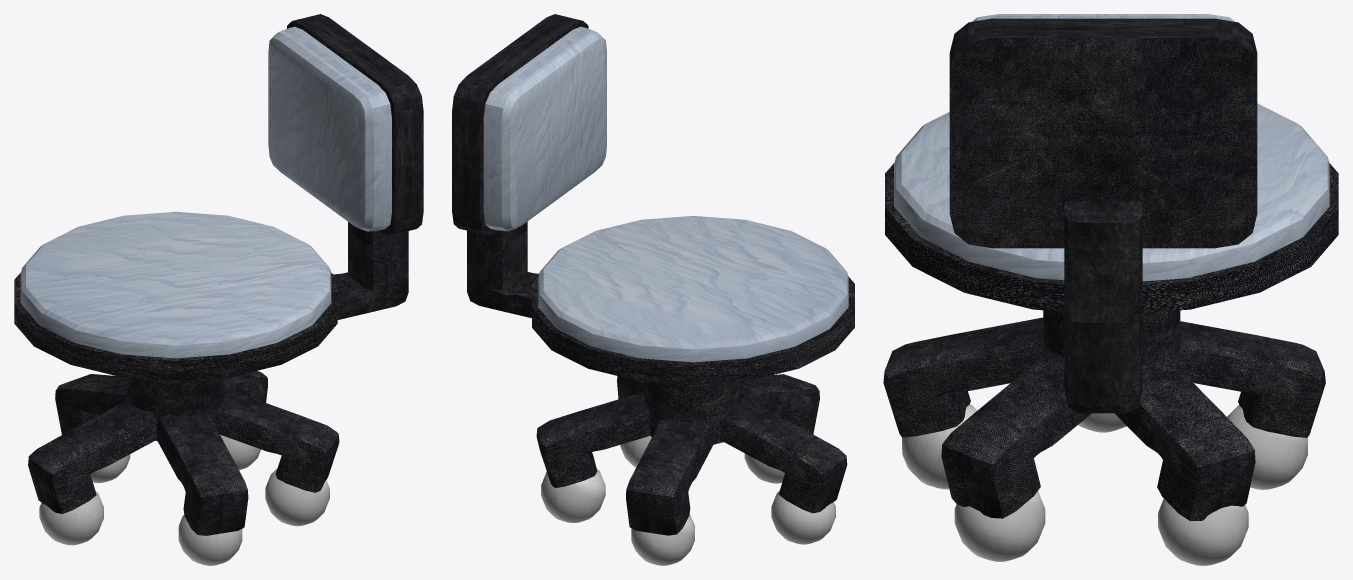
The model's file is LivingQuarters_Chair_Unwrapped.fbx.
The picture shows the model from 3 angles, left to right: view 1: azimuth 30°, elevation 25°; view 2: azimuth 150°, elevation 25°; view 3: azimuth 270°, elevation 25°; orthographic projection. The views are drawn at different scales.
Parts seen in each view (by area): view 1: Cylinder007, Box019, Cylinder006, Box018, Box012, Box016, Box015, Box017, Cylinder005, Box013, Sphere008, Sphere010 (+4 smaller); view 2: Cylinder007, Box019, Cylinder006, Box018, Box012, Box013, Box014, Box017, Cylinder005, Box016, Sphere009, Sphere010 (+3 smaller); view 3: Box018, Cylinder007, Box017, Cylinder006, Box015, Box014, Box016, Box013, Sphere009, Sphere008, Sphere006, Cylinder005 (+3 smaller).
Part boxes in pixels (bbox=[...]): Cylinder007: bbox=[20, 211, 331, 358]; Box019: bbox=[268, 26, 391, 231]; Cylinder006: bbox=[14, 272, 337, 380]; Box018: bbox=[286, 14, 423, 235]; Box012: bbox=[28, 400, 157, 513]; Box016: bbox=[156, 413, 248, 535]; Box015: bbox=[214, 388, 339, 492]; Box017: bbox=[333, 222, 408, 319]; Cylinder005: bbox=[127, 377, 224, 441]; Box013: bbox=[55, 374, 127, 434]; Sphere008: bbox=[265, 468, 329, 526]; Sphere010: bbox=[39, 491, 103, 545]; Cylinder007: bbox=[538, 216, 848, 362]; Box019: bbox=[483, 26, 606, 231]; Cylinder006: bbox=[532, 276, 854, 384]; Box018: bbox=[452, 14, 588, 235]; Box012: bbox=[720, 398, 847, 513]; Box013: bbox=[626, 419, 714, 535]; Box014: bbox=[536, 391, 650, 487]; Box017: bbox=[467, 221, 538, 318]; Cylinder005: bbox=[644, 381, 742, 444]; Box016: bbox=[742, 374, 819, 433]; Sphere009: bbox=[541, 468, 605, 522]; Sphere010: bbox=[771, 490, 835, 544]; Box018: bbox=[949, 18, 1257, 248]; Cylinder007: bbox=[894, 103, 1329, 281]; Box017: bbox=[1064, 201, 1142, 413]; Cylinder006: bbox=[885, 163, 1338, 312]; Box015: bbox=[941, 351, 1091, 518]; Box014: bbox=[1115, 358, 1255, 520]; Box016: bbox=[883, 317, 1044, 437]; Box013: bbox=[1178, 321, 1325, 437]; Sphere009: bbox=[1158, 498, 1248, 565]; Sphere008: bbox=[954, 491, 1045, 561]; Sphere006: bbox=[1227, 405, 1307, 489]; Cylinder005: bbox=[1043, 310, 1180, 367].
Bounding box in the file's own units: 38.24 × 42.69 × 29.66.
